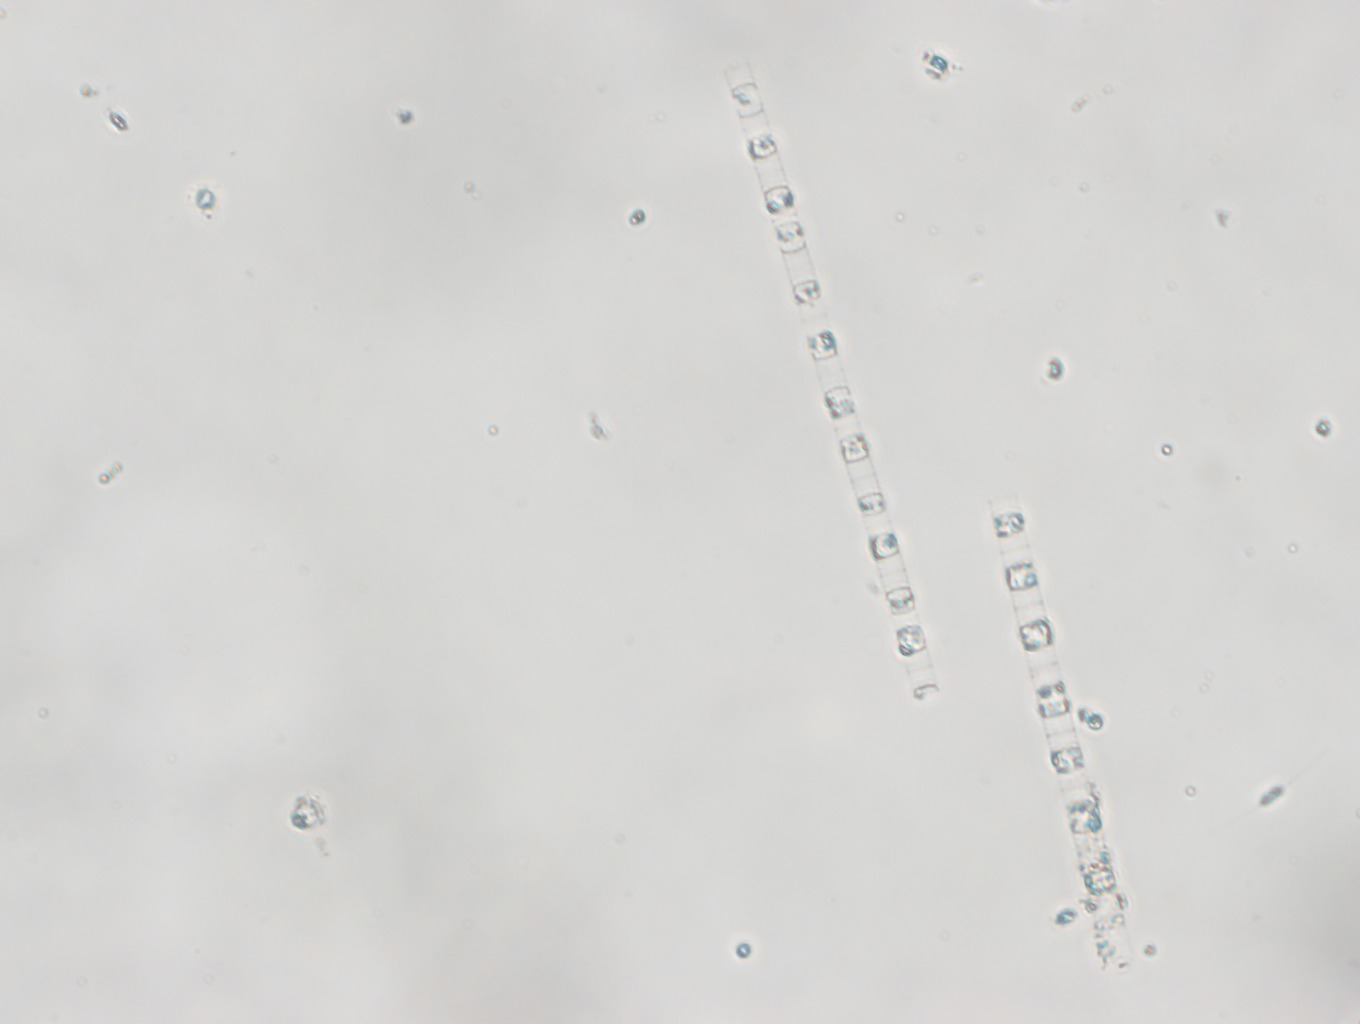skeletonema: (713, 61, 947, 708), (979, 485, 1140, 975)
